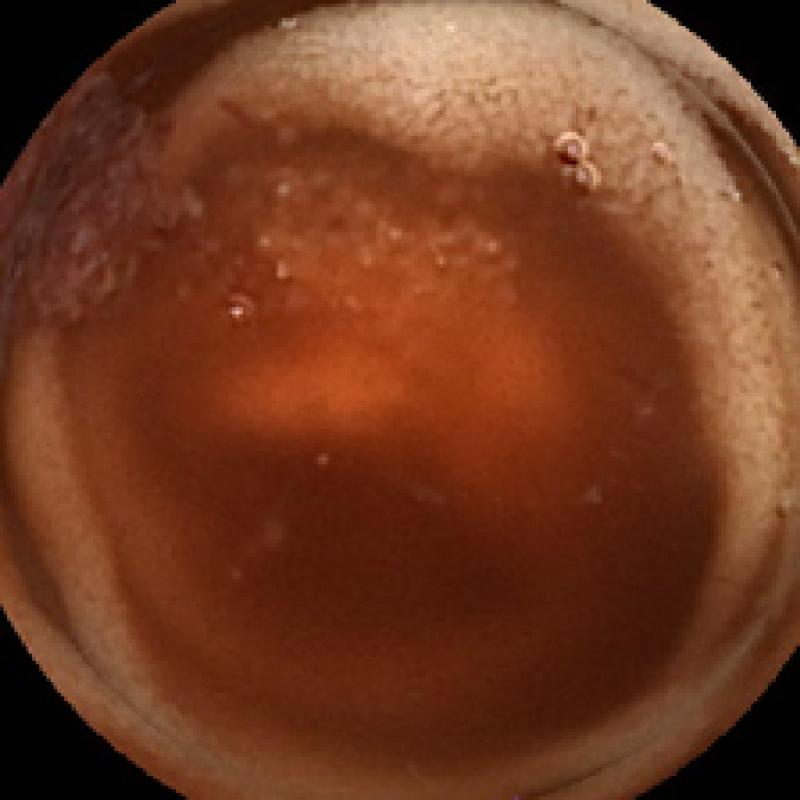bleeding: (10, 68, 186, 307)
